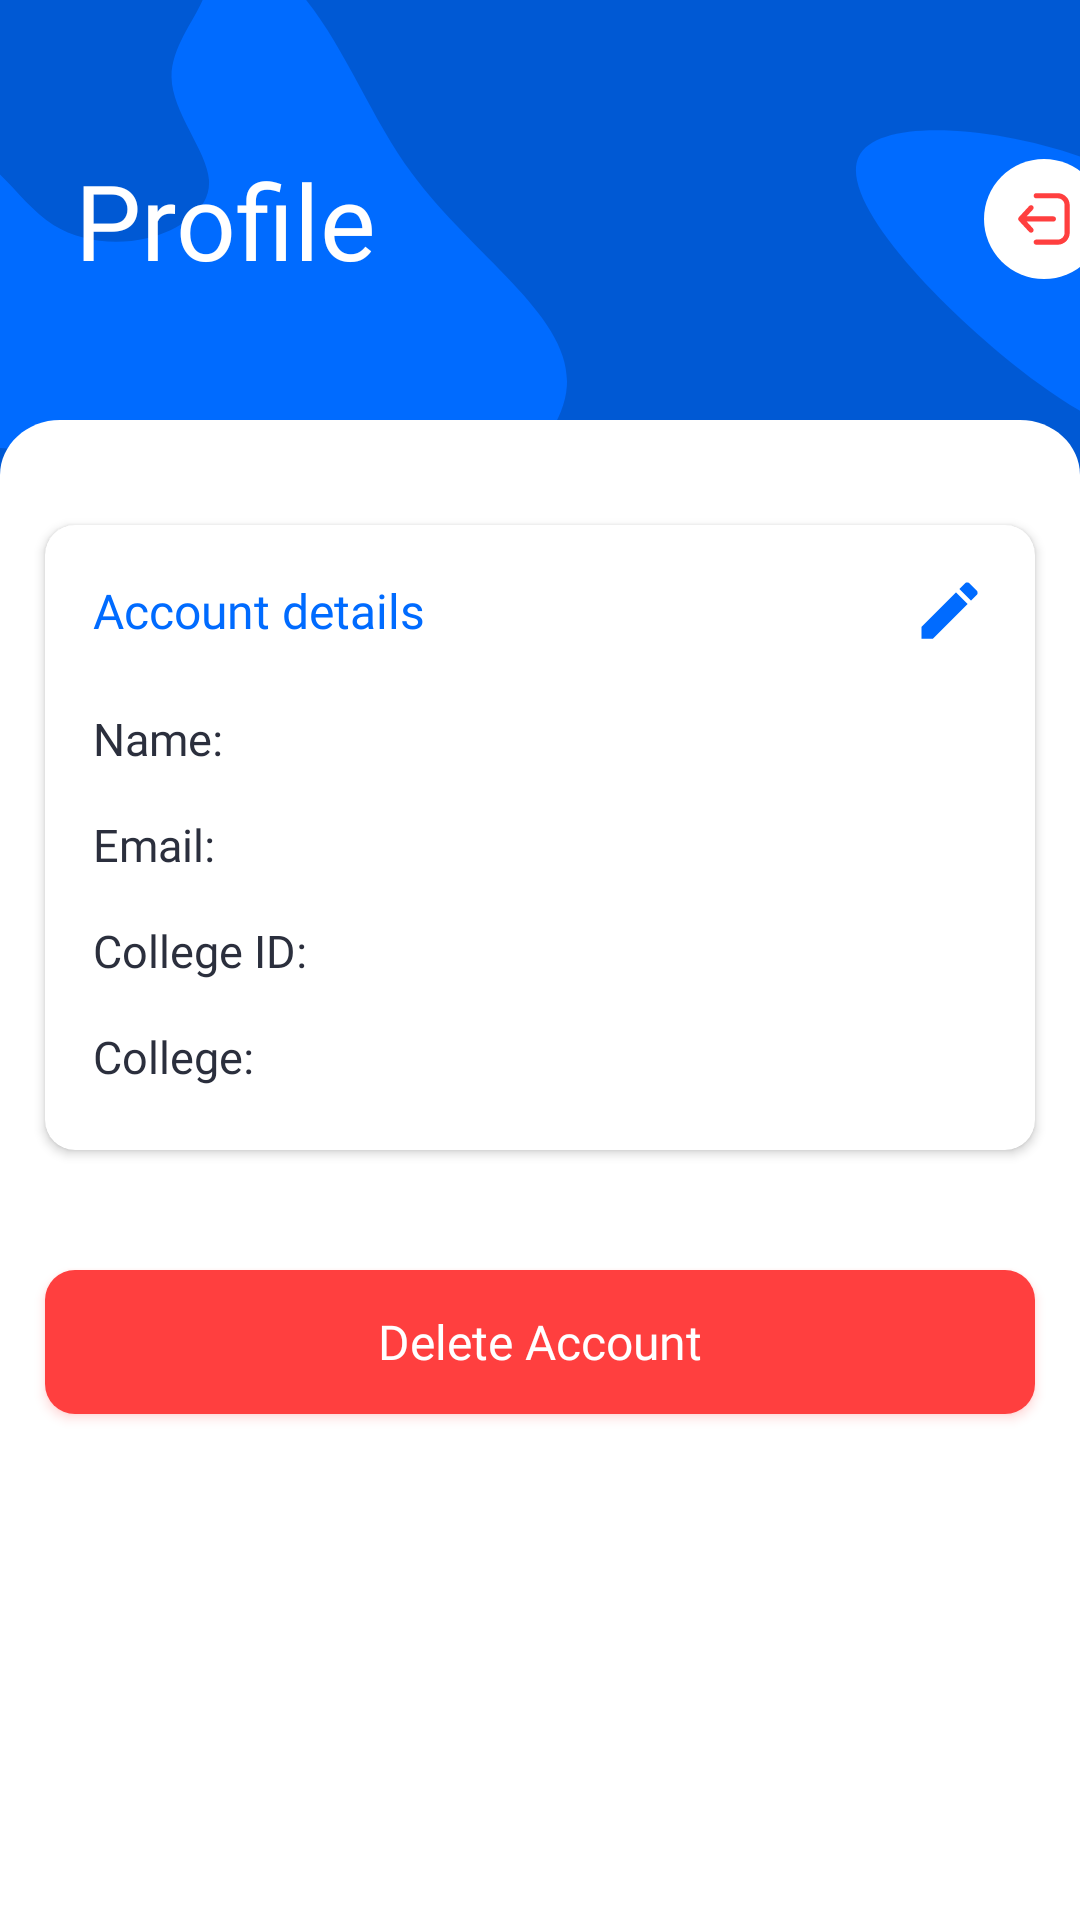

Icon click points for this 1080x1920 phone screenshot, format (x=x, y=y):
edit: (x=949, y=610)
